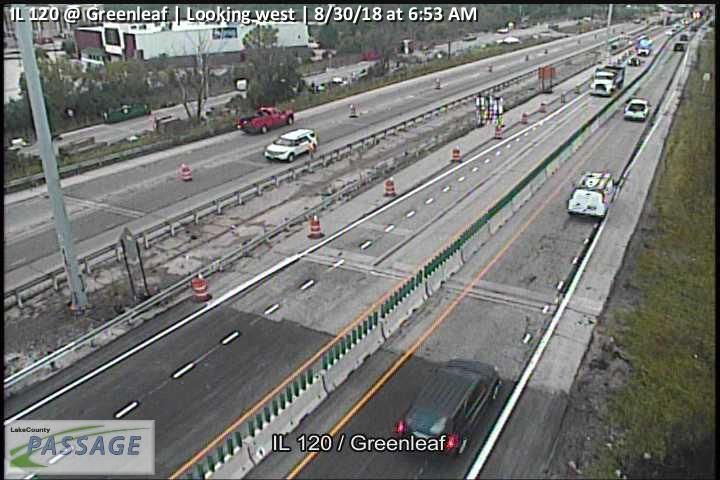SUV: (394, 356, 503, 460), (264, 126, 319, 163), (625, 97, 649, 122)
Truck: (565, 171, 617, 221), (237, 106, 294, 134), (588, 64, 626, 98)
